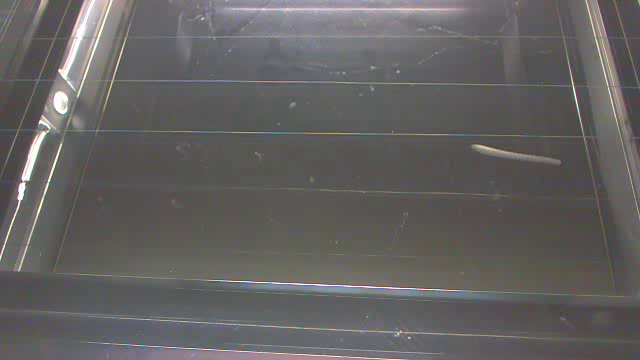alpha: (471, 143, 560, 163)
